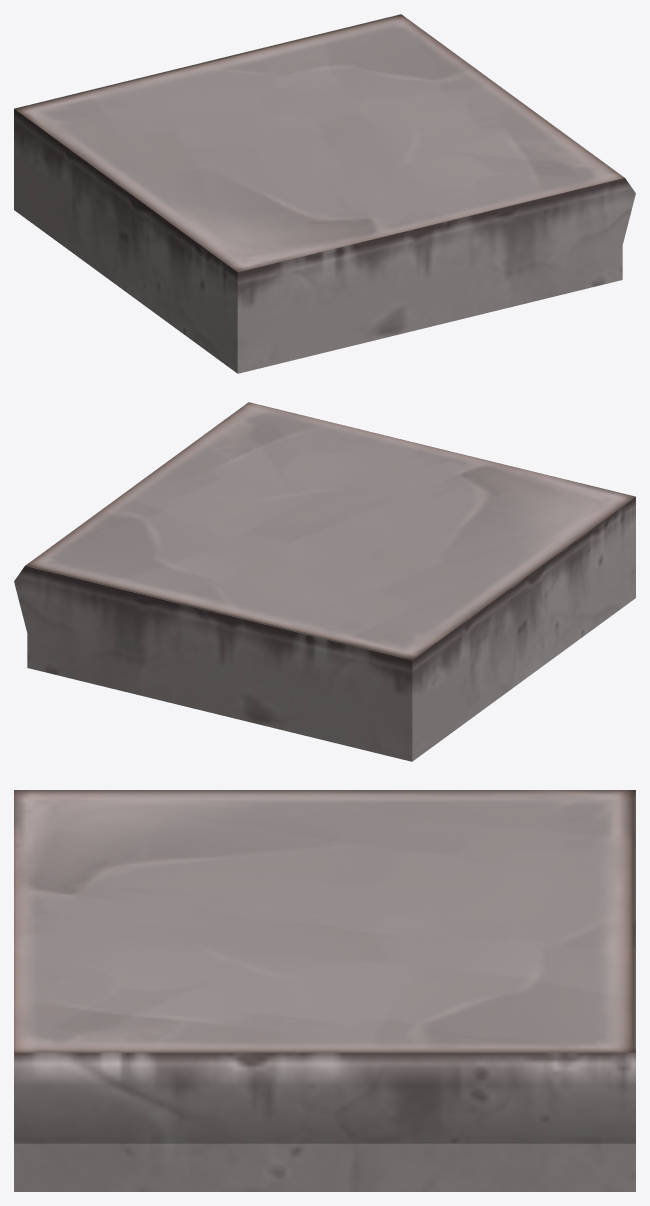
File: sm_calcada_04.fbx
3 renders of one model, top to bottom at view 1: azimuth 30°, elevation 25°; view 2: azimuth 150°, elevation 25°; view 3: azimuth 270°, elevation 25°, orthographic. The views are drawn at different scales.
Visible parts, largest first — view 1: sm_calcada_04; view 2: sm_calcada_04; view 3: sm_calcada_04.
Boxes of the visible parts, x1,y1,x2,y2 form: sm_calcada_04: (14,14,635,373); sm_calcada_04: (14,402,635,761); sm_calcada_04: (14,790,635,1191).
Bounding box in the file's own units: 1.03 × 0.25 × 1.
